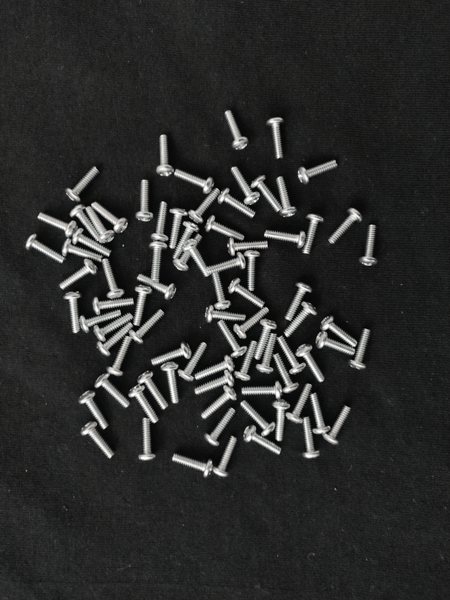shortscrew: (94, 373, 131, 411), (96, 321, 134, 358), (241, 400, 277, 437), (25, 234, 67, 265), (80, 422, 115, 459), (137, 371, 170, 410), (58, 260, 98, 292), (129, 384, 161, 424), (65, 166, 100, 202), (129, 309, 165, 344), (330, 207, 364, 244), (204, 408, 235, 448), (177, 343, 208, 383), (285, 301, 319, 337), (70, 205, 103, 242), (92, 314, 134, 343), (320, 315, 358, 347), (79, 390, 109, 430), (202, 385, 237, 419), (71, 228, 112, 257), (92, 201, 129, 233), (217, 320, 248, 358), (231, 166, 261, 205), (106, 336, 133, 379), (244, 426, 282, 456), (218, 188, 256, 218), (228, 279, 266, 309), (174, 233, 203, 272), (324, 406, 352, 446), (278, 336, 306, 376), (87, 206, 117, 243), (224, 109, 250, 151), (183, 239, 211, 278), (251, 176, 281, 212), (175, 220, 200, 263), (297, 345, 325, 383), (194, 355, 236, 380), (298, 159, 340, 184), (137, 274, 177, 300), (175, 169, 215, 195), (37, 212, 77, 238), (151, 341, 192, 366), (172, 454, 213, 479), (214, 436, 238, 478), (195, 371, 237, 395), (78, 310, 121, 333), (102, 258, 125, 300), (160, 363, 183, 405), (316, 331, 356, 355), (205, 216, 245, 240), (286, 282, 311, 320), (62, 239, 103, 262), (256, 333, 279, 374), (350, 329, 372, 371), (303, 213, 325, 255), (255, 318, 277, 360), (149, 202, 171, 242), (359, 224, 379, 267), (237, 342, 259, 381), (148, 241, 168, 283), (264, 229, 306, 249), (311, 393, 331, 435), (208, 253, 248, 274), (266, 117, 285, 161), (277, 177, 297, 218), (63, 292, 82, 334), (92, 296, 134, 315), (133, 284, 152, 326), (136, 179, 154, 222), (170, 207, 188, 250), (228, 237, 268, 256), (212, 271, 231, 311), (273, 399, 291, 441), (157, 135, 175, 177), (302, 418, 320, 460), (190, 194, 216, 223), (205, 306, 245, 324), (139, 418, 155, 462), (245, 250, 260, 292)
